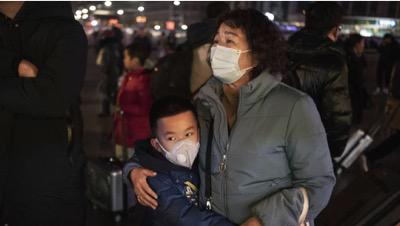with_mask: (210, 28, 251, 84), (158, 124, 201, 169)
without_mask: (122, 52, 134, 69)
